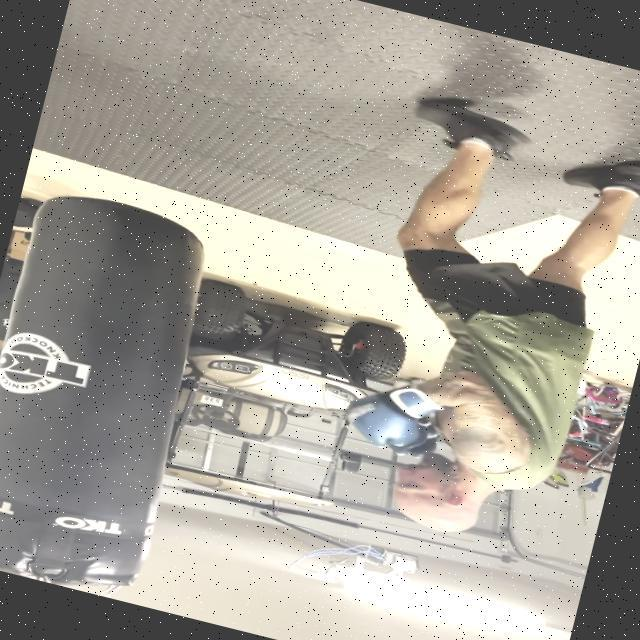bag: (0, 179, 239, 597)
no punch: (320, 343, 590, 560)
